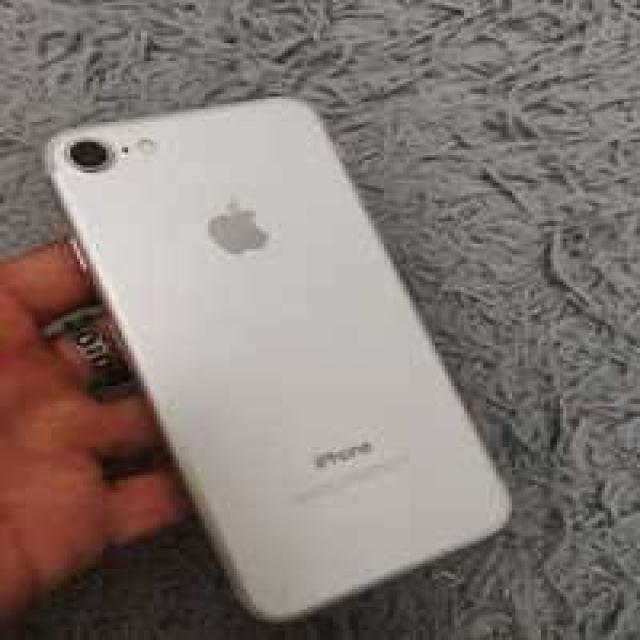mobile phone: (38, 92, 516, 622)
